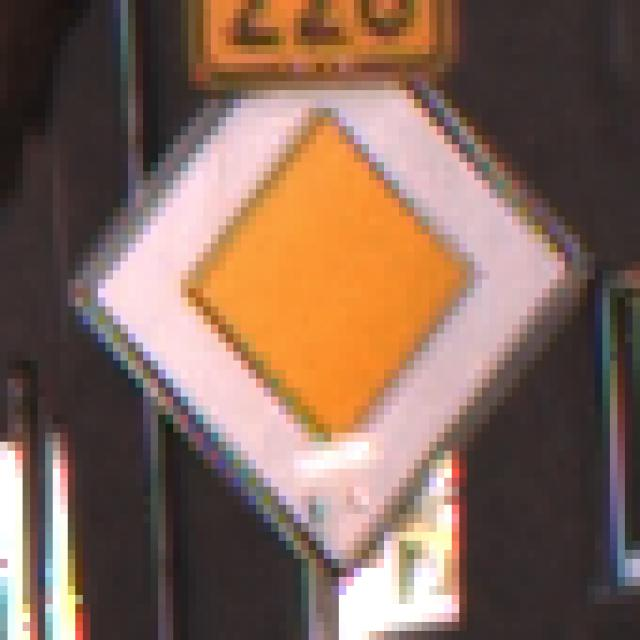Main Road: (62, 55, 589, 587)
